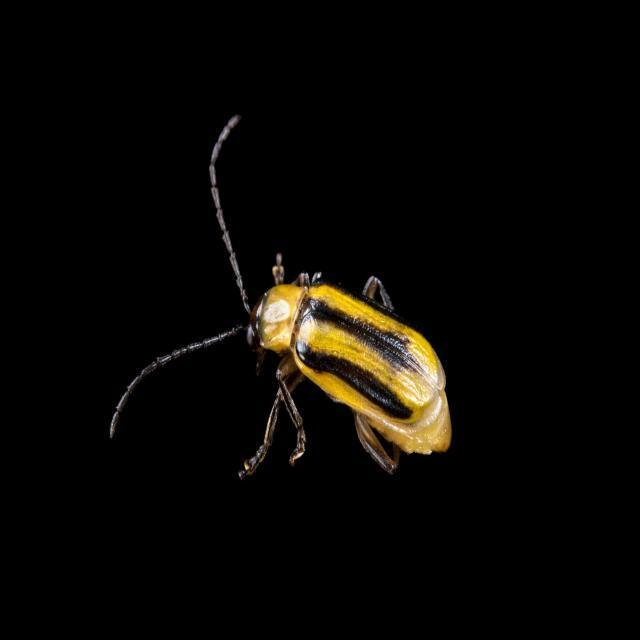trips: (111, 114, 450, 478)
